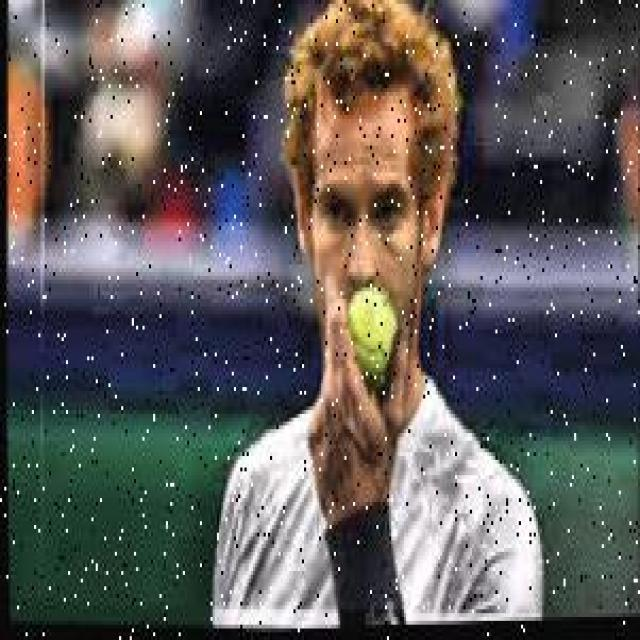tennis-ball: (338, 286, 400, 401)
